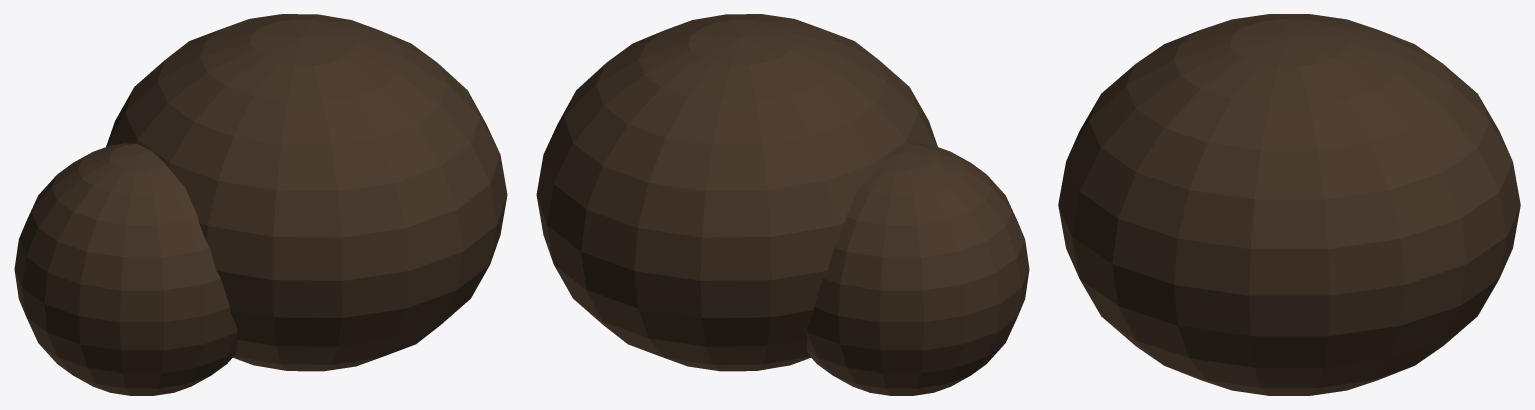
The model's file is SM_Hair_Bun.fbx.
3 renders of one model, left to right at view 1: azimuth 30°, elevation 25°; view 2: azimuth 150°, elevation 25°; view 3: azimuth 270°, elevation 25°, orthographic. The views are drawn at different scales.
Visible parts, largest first — view 1: SM_Hair_Bun; view 2: SM_Hair_Bun; view 3: SM_Hair_Bun.
Boxes of the visible parts, x1,y1,x2,y2 form: SM_Hair_Bun: (14, 14, 507, 395); SM_Hair_Bun: (536, 14, 1029, 395); SM_Hair_Bun: (1058, 14, 1520, 395).
Bounding box in the file's own units: 24.76 × 20.78 × 16.66.
